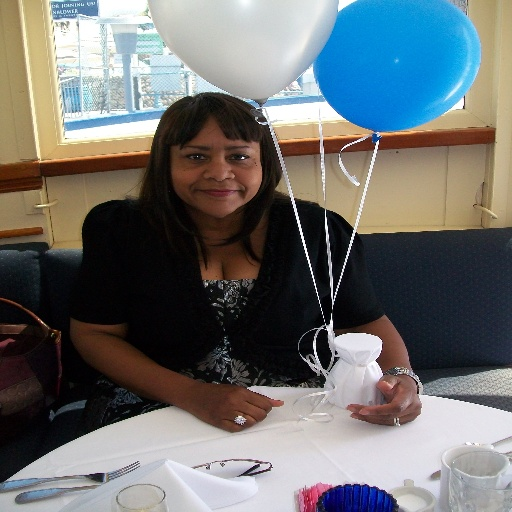hand: (180, 380, 284, 433), (368, 372, 428, 428)
